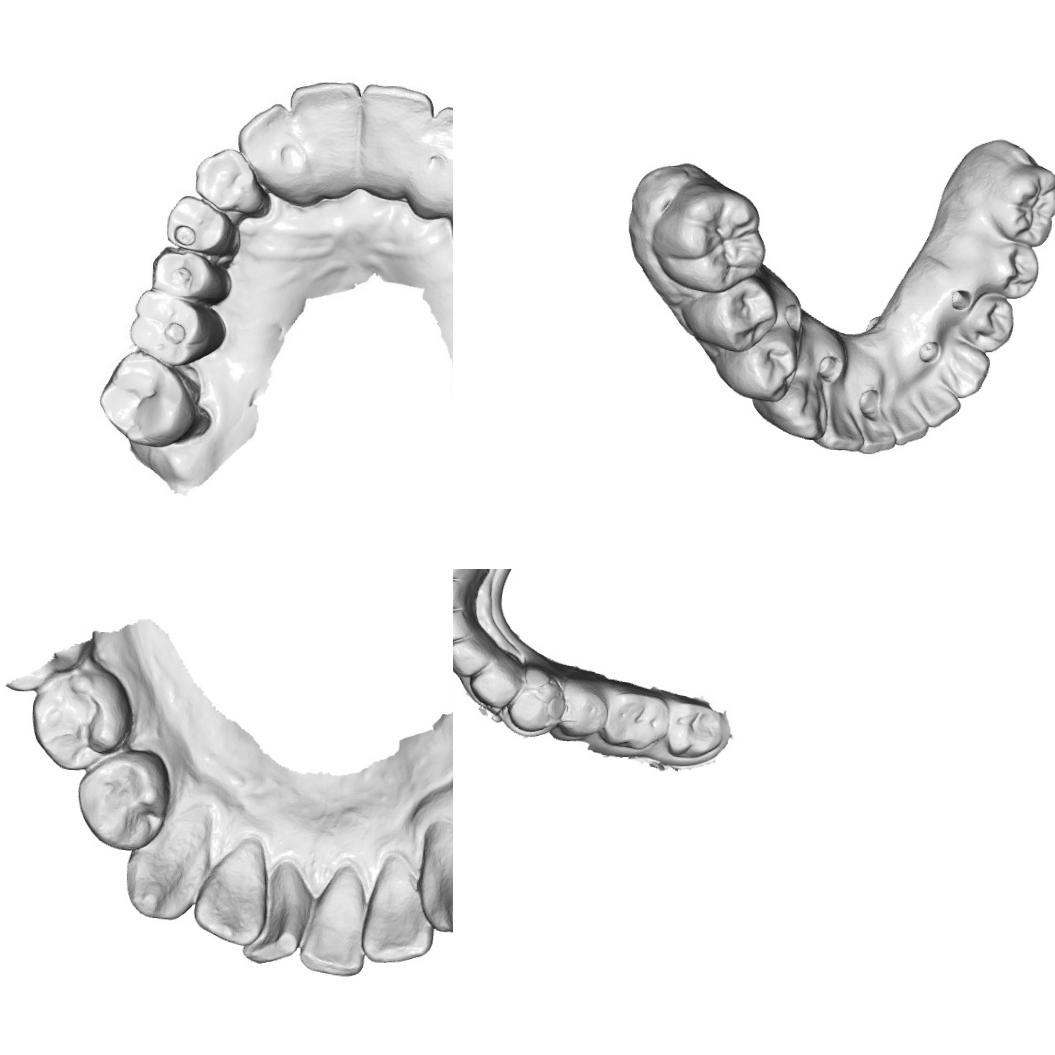canine: (124, 804, 212, 922), (191, 148, 275, 224), (415, 821, 453, 936), (770, 380, 826, 441), (938, 337, 990, 400), (467, 659, 514, 709)
incisor: (291, 80, 368, 202), (292, 865, 370, 978), (360, 85, 434, 199), (358, 856, 436, 964), (193, 840, 271, 946), (242, 861, 314, 968), (244, 103, 314, 209), (415, 105, 453, 210), (817, 392, 865, 456), (887, 400, 931, 448), (857, 406, 896, 457), (917, 382, 962, 426), (453, 640, 488, 678), (453, 608, 473, 643), (453, 577, 466, 611)
molar: (646, 178, 771, 297), (95, 350, 218, 452), (128, 290, 232, 365), (982, 160, 1055, 245), (598, 688, 671, 752), (664, 700, 726, 761)
premolar: (25, 665, 136, 775), (73, 749, 173, 854), (160, 192, 244, 266), (731, 322, 803, 402), (701, 280, 776, 353), (151, 246, 236, 310), (978, 238, 1042, 303), (958, 291, 1016, 353), (506, 674, 562, 734), (562, 678, 608, 738)
